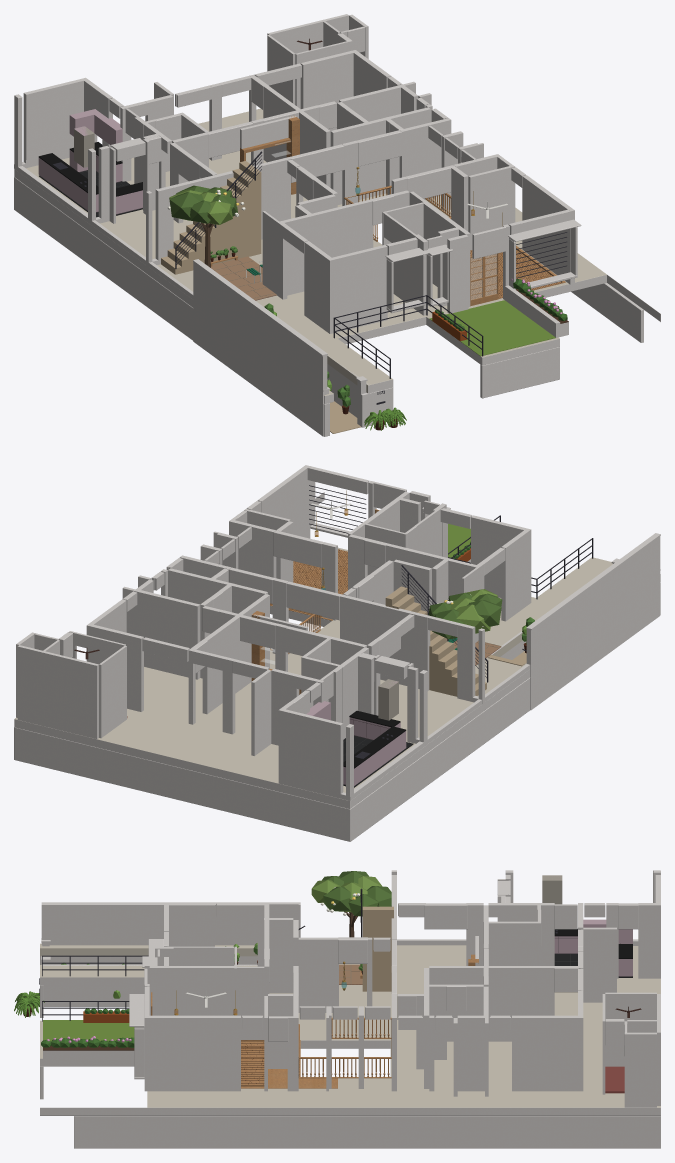
The model's file is ground.gltf.
3 views of the same model, one above another, from view 1: azimuth 30°, elevation 25°; view 2: azimuth 150°, elevation 25°; view 3: azimuth 270°, elevation 25° (orthographic).
Visible parts, largest first — view 1: Lime White_wall.001, Lime White.001, Lime White Shade, Terrazzo.001, Lime White_high.001, Kota.001, Teak.001, Lawn, Mauve Laminate, Charcoal Steel, Foliage #4E6B35, Entrance Stone (+6 smaller); view 2: Lime White_wall.001, Lime White Shade, Lime White.001, Terrazzo.001, Lime White_high.001, Kota.001, Mauve Laminate, Charcoal Steel, Teak.001, Foliage #4E6B35, Black Granite, Lime White Shade_high (+3 smaller); view 3: Lime White_wall.001, Terrazzo.001, Lime White Shade, Lime White.001, Lime White_high.001, Teak.001, Kota.001, Foliage #4E6B35, Lawn, Charcoal Steel, Mauve Laminate, Shrub (+8 smaller).
Boxes of the visible parts, x1,y1,x2,y2 form: Lime White_wall.001: [14, 14, 574, 333]; Lime White.001: [14, 169, 660, 436]; Lime White Shade: [14, 177, 643, 436]; Terrazzo.001: [26, 108, 660, 395]; Lime White_high.001: [109, 42, 570, 255]; Kota.001: [161, 161, 360, 433]; Teak.001: [210, 115, 565, 306]; Lawn: [429, 300, 555, 356]; Mauve Laminate: [38, 109, 142, 213]; Charcoal Steel: [53, 151, 567, 404]; Foliage #4E6B35: [169, 185, 237, 223]; Entrance Stone: [211, 256, 276, 300]; Lime White_wall.001: [16, 465, 531, 800]; Lime White Shade: [14, 558, 660, 841]; Lime White.001: [14, 480, 660, 808]; Terrazzo.001: [14, 492, 612, 792]; Lime White_high.001: [75, 466, 505, 702]; Kota.001: [385, 586, 526, 696]; Mauve Laminate: [306, 681, 406, 785]; Charcoal Steel: [309, 485, 593, 758]; Teak.001: [251, 509, 379, 694]; Foliage #4E6B35: [428, 592, 502, 639]; Black Granite: [343, 710, 406, 768]; Lime White Shade_high: [526, 533, 660, 629]; Lime White_wall.001: [144, 870, 660, 1107]; Terrazzo.001: [40, 943, 660, 1107]; Lime White Shade: [40, 938, 660, 1148]; Lime White.001: [40, 906, 660, 1115]; Lime White_high.001: [144, 880, 605, 1029]; Teak.001: [151, 954, 478, 1088]; Kota.001: [362, 906, 393, 991]; Foliage #4E6B35: [322, 871, 391, 916]; Lawn: [43, 1020, 134, 1041]; Charcoal Steel: [39, 888, 557, 1021]; Mauve Laminate: [554, 919, 632, 976]; Shrub: [41, 1008, 134, 1047].
Bounding box in the file's own units: 6.28 × 2.56 × 10.42.
40 materials, 5 textured.
